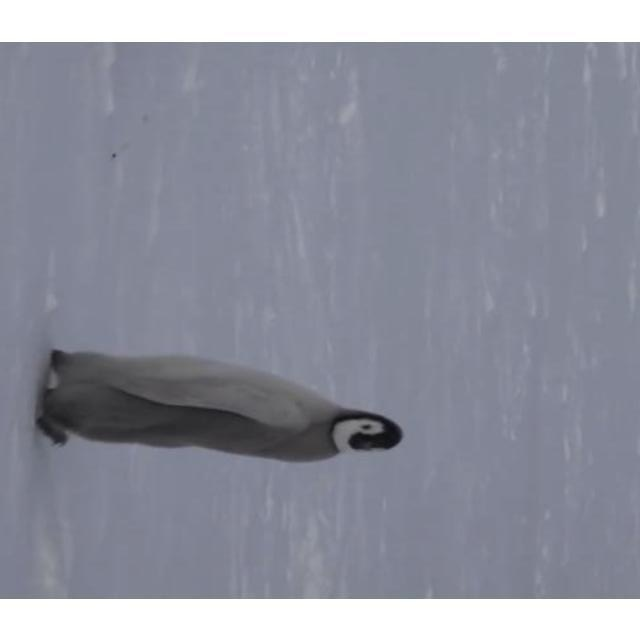penguin: (35, 347, 405, 465)
